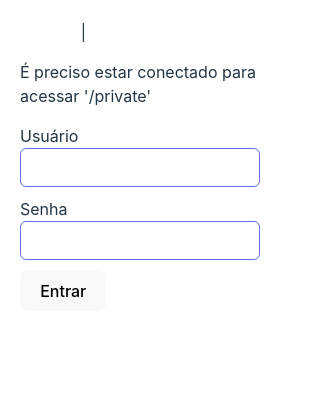
Scenario: Login funcionando › Usuário e/ou senha inválidos
Type "usuario" into the field named "username".
click(140, 168); type("usuario")  # box [20,148,260,187]
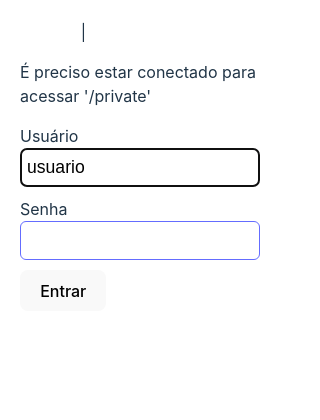
Type "senha" into the password field named "password".
click(140, 241); type("senha")  # box [20,221,260,260]
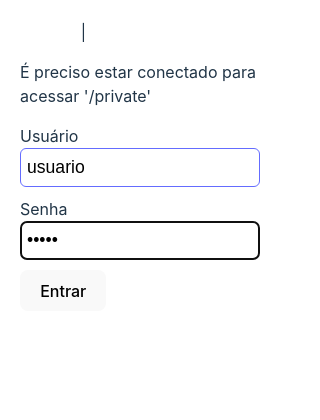
Click the submit button.
click(64, 291)  # box [20,270,107,311]
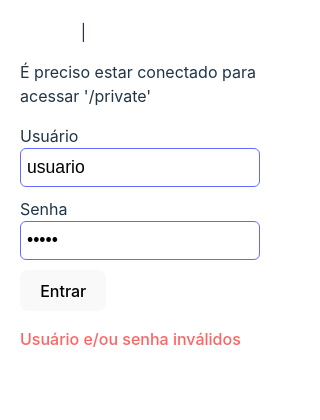
Result: the text "Usuário e/ou senha inválidos" is shown at [20,329,241,349]
